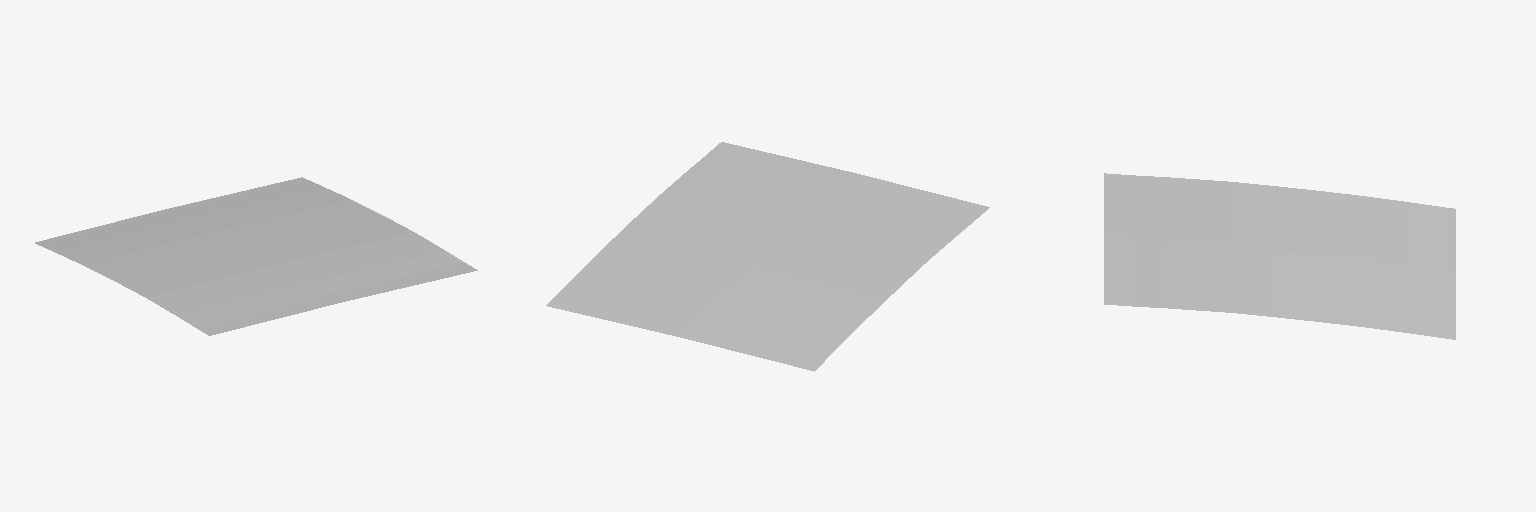
The model's file is hood.obj.
3 views of the same model, side by side, from view 1: azimuth 30°, elevation 25°; view 2: azimuth 150°, elevation 25°; view 3: azimuth 270°, elevation 25° (orthographic).
Parts seen in each view (by area): view 1: Hood.002_Plane.022; view 2: Hood.002_Plane.022; view 3: Hood.002_Plane.022.
Part boxes in pixels (left/top/right/bottom): Hood.002_Plane.022: left=35, top=177, right=477, bottom=335; Hood.002_Plane.022: left=546, top=142, right=989, bottom=371; Hood.002_Plane.022: left=1104, top=173, right=1455, bottom=339.
Size of the model in its own units: 1.11 by 0.1449 by 1.26.